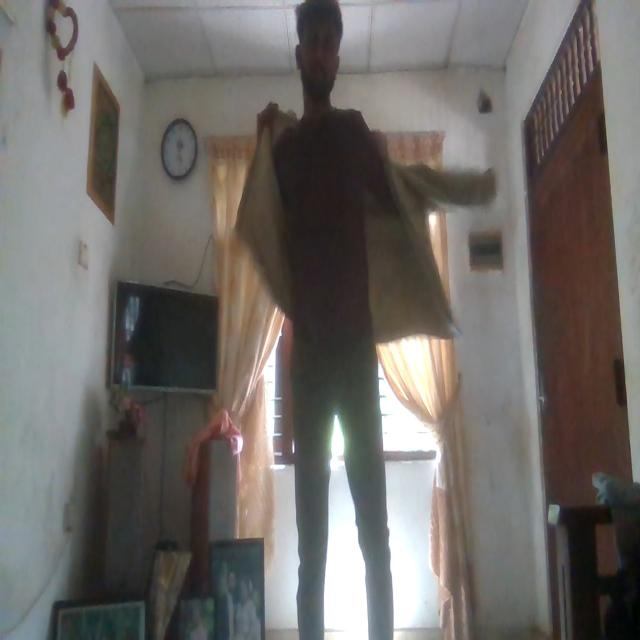Jacket_Wearer: (248, 98, 493, 346)
Person: (247, 0, 492, 640)
